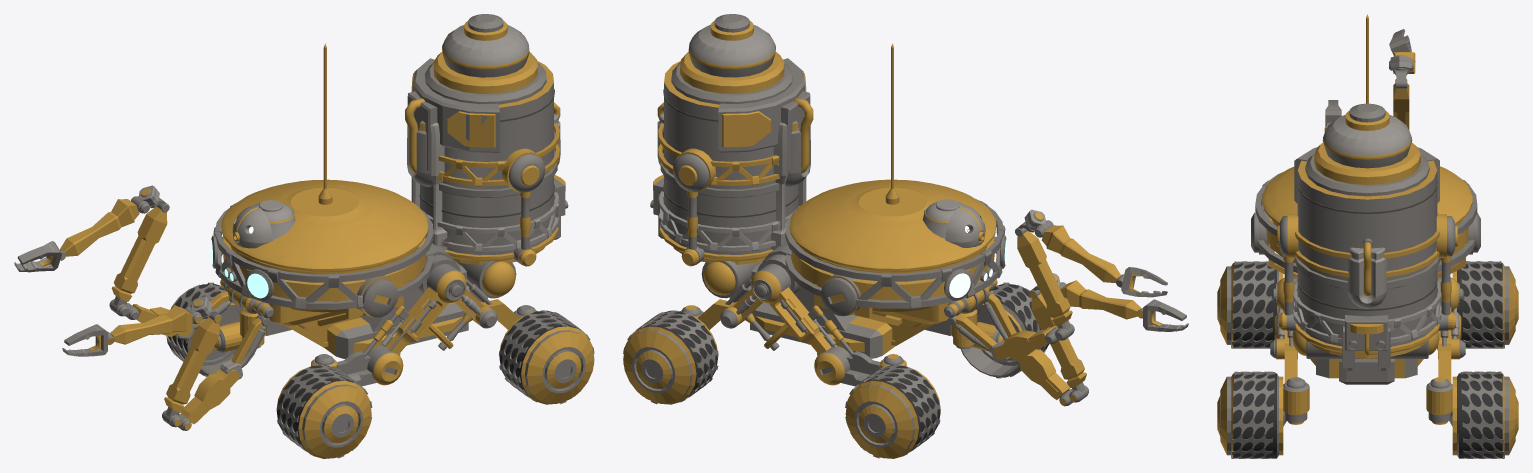
File: robot_drone_-_homework__detailed_draft.glb
3 renders of one model, left to right at view 1: azimuth 30°, elevation 25°; view 2: azimuth 150°, elevation 25°; view 3: azimuth 270°, elevation 25°, orthographic.
Visible parts, largest first — view 1: pCylinder1, pCylinder4, pCylinder88, pCylinder95, pCylinder7, pCube8, polySurface1, pPipe10, pCylinder6, pCube23, pCube34, pCube27 (×2) (+35 smaller); view 2: pCylinder1, pCylinder4, pCylinder78, pCylinder83, pCylinder7, pCube8, polySurface1, pPipe10, pCylinder88, pCylinder6, pCube34, pCube123 (+35 smaller); view 3: pCylinder4, pCylinder7, pCylinder95, pCylinder83, pCylinder78, pCylinder88, pCylinder1, pCylinder6, pCube103, pCube119, pCube123, pCube104 (+34 smaller).
Boxes of the visible parts, x1,y1,x2,y2 form: pCylinder1: [221, 179, 428, 312]; pCylinder4: [420, 61, 558, 264]; pCylinder88: [276, 365, 371, 458]; pCylinder95: [499, 310, 594, 404]; pCylinder7: [442, 14, 529, 77]; pCube8: [324, 302, 468, 358]; polySurface1: [412, 58, 499, 152]; pPipe10: [215, 207, 433, 282]; pCylinder6: [433, 52, 537, 93]; pCube23: [164, 317, 219, 412]; pCube34: [111, 206, 167, 301]; pCube27 (×2): [14, 241, 107, 356]; pCylinder1: [789, 179, 996, 311]; pCylinder4: [659, 61, 798, 264]; pCylinder78: [845, 365, 940, 458]; pCylinder83: [623, 310, 718, 404]; pCylinder7: [688, 14, 775, 77]; pCube8: [750, 302, 895, 358]; polySurface1: [718, 58, 805, 152]; pPipe10: [785, 199, 1003, 281]; pCylinder88: [960, 284, 1048, 377]; pCylinder6: [680, 52, 784, 93]; pCube34: [1017, 231, 1072, 325]; pCube123: [623, 310, 718, 404]; pCylinder4: [1295, 160, 1439, 358]; pCylinder7: [1322, 103, 1412, 168]; pCylinder95: [1217, 373, 1283, 458]; pCylinder83: [1452, 373, 1518, 458]; pCylinder78: [1452, 263, 1518, 347]; pCylinder88: [1217, 263, 1283, 347]; pCylinder1: [1262, 166, 1472, 262]; pCylinder6: [1314, 142, 1420, 184]; pCube103: [1461, 261, 1504, 348]; pCube119: [1231, 261, 1274, 348]; pCube123: [1460, 371, 1504, 458]; pCube104: [1231, 371, 1275, 458].
Bounding box in the file's own units: 6.92 × 4.43 × 3.38.
